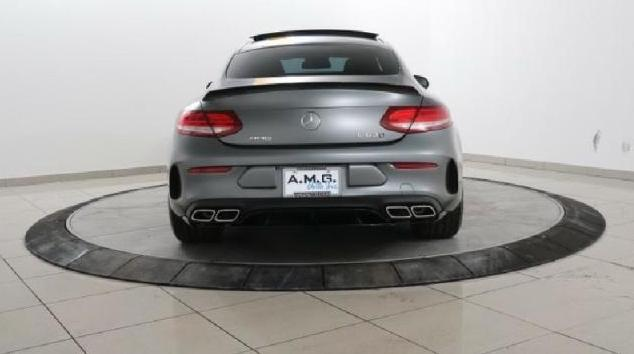C63AMG: (154, 24, 471, 248)
